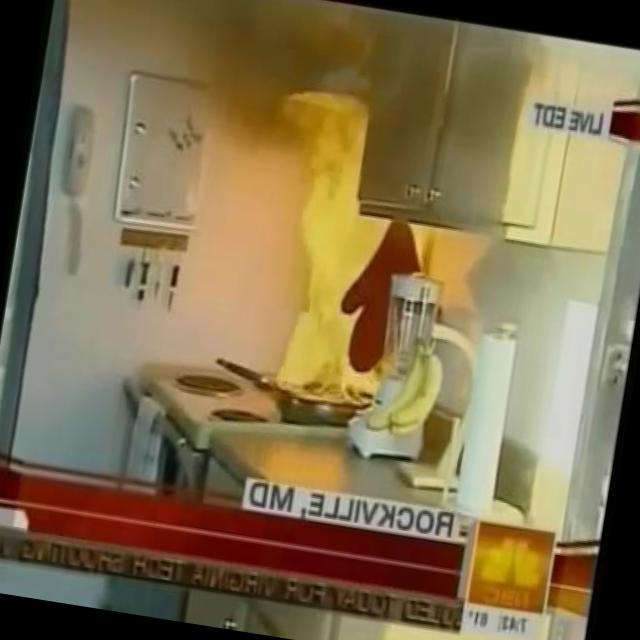fire: (248, 86, 426, 408)
